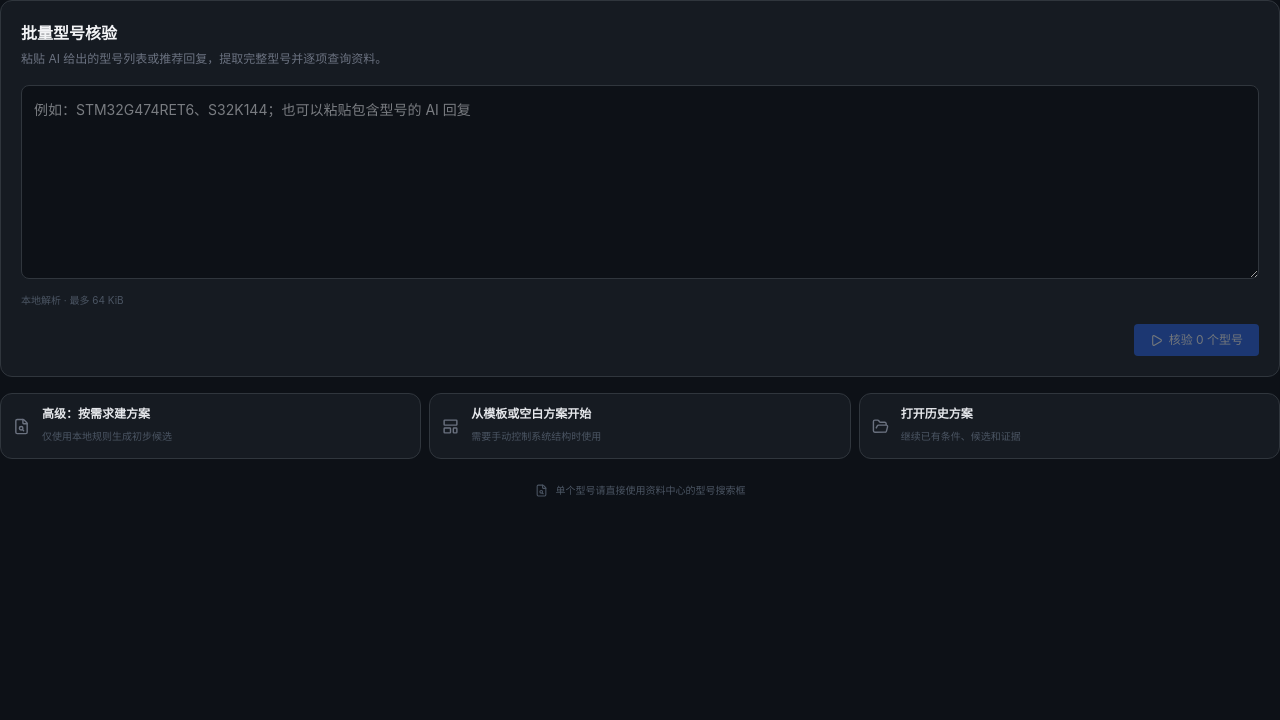
Test: FunctionalSelectionCenter › keeps requirement-based discovery behind an explicit advanced entry
Click the button "高级：按需求建方案 仅使用本地规则生成初步候选". click: click(96, 414)
box: [0,393,421,459]
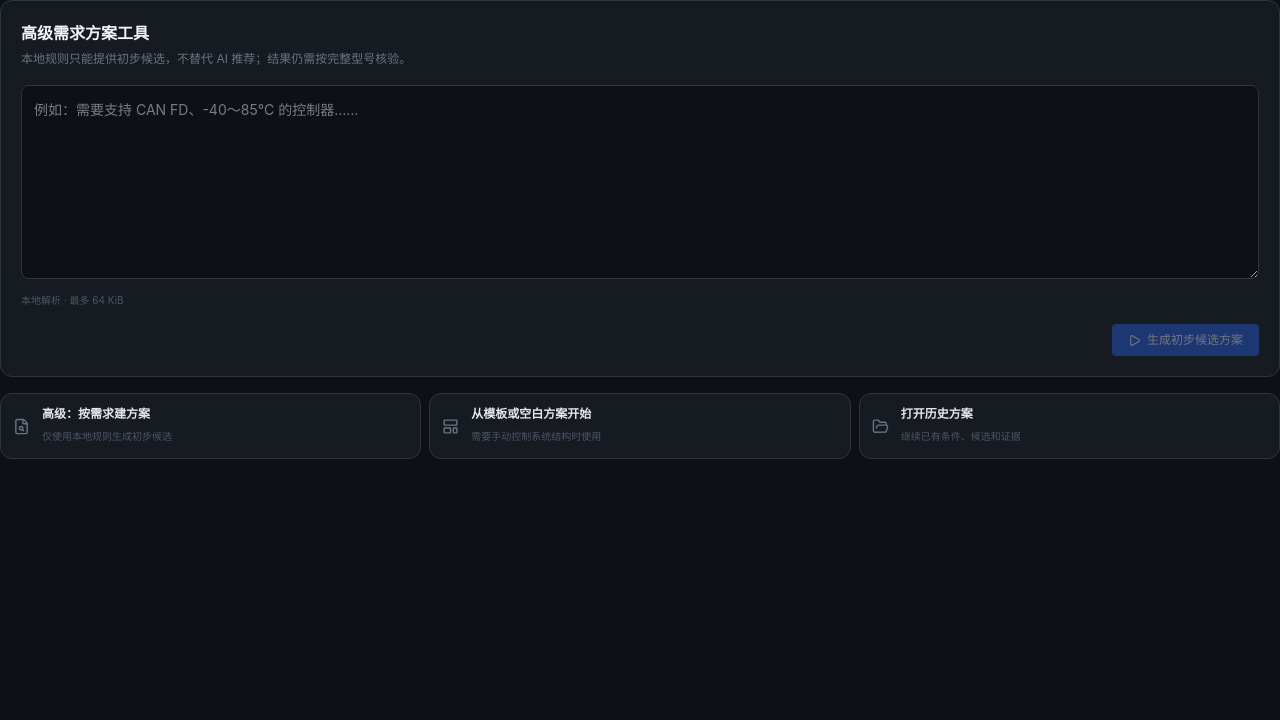
Type "温度和压力传感器采集，需要 ADC" into the text box named "产品需求内容". click: (640, 182)
box: [21,85,1259,279]
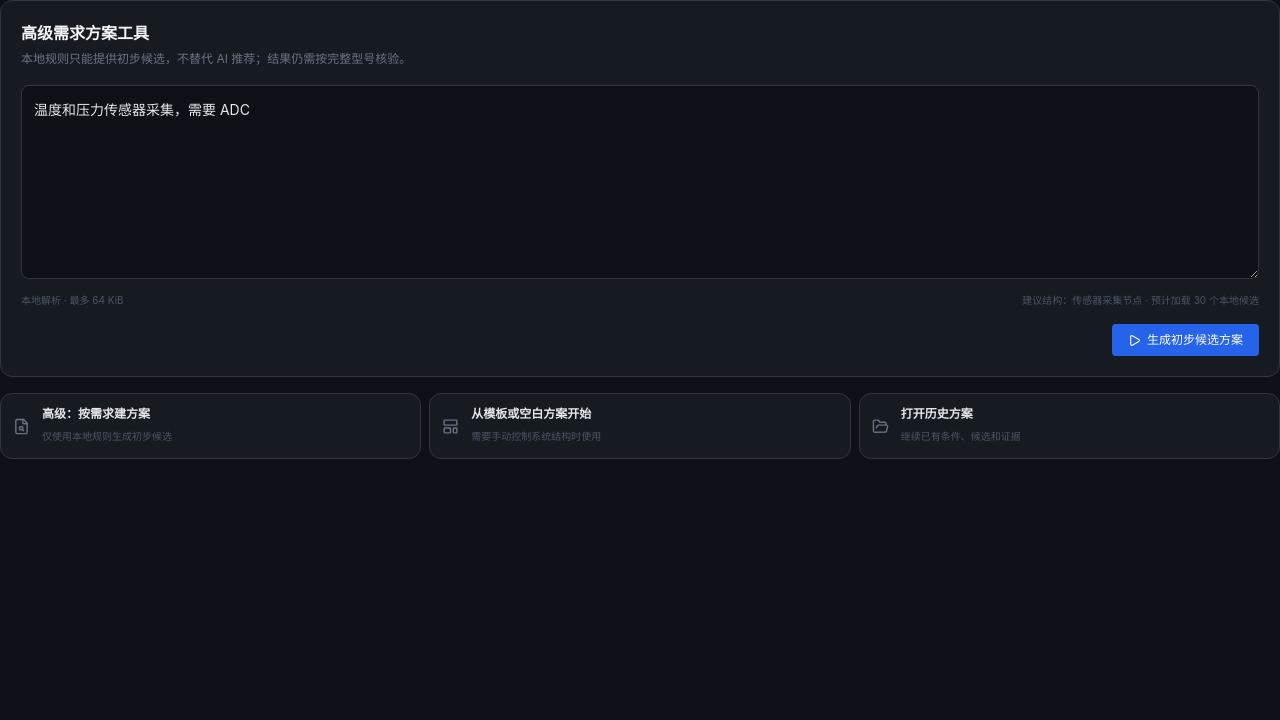
Check: the text "建议结构：传感器采集节点 · 预计加载 30 个本地候选" is shown, box [1022,293,1259,308]
Click the button "生成初步候选方案". click: click(1186, 340)
box: [1112,324,1259,356]
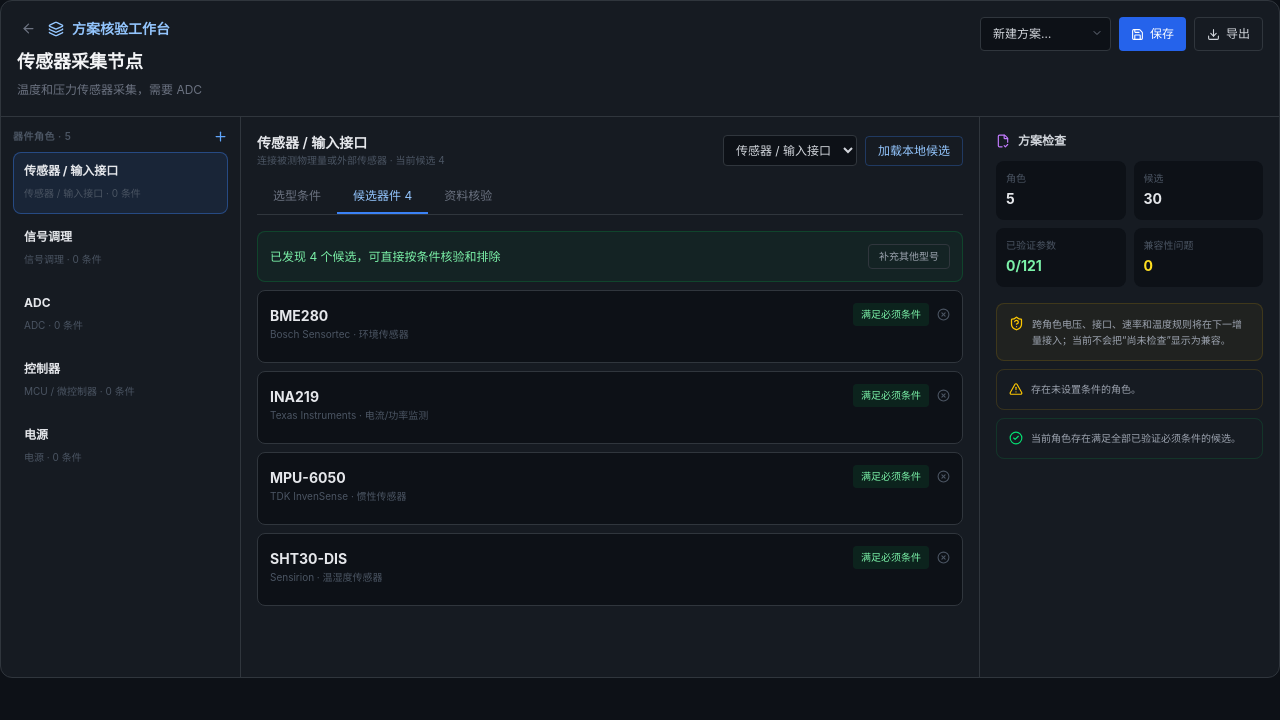
Check: the text "方案核验工作台" is shown, box [17,17,170,40]
Check: the field named "功能描述" holds "温度和压力传感器采集，需要 ADC", box [17,82,785,98]
Check: the text "BME280" is shown, box [270,307,328,324]
Click the button "补充其他型号". click: click(909, 256)
box: [868,244,950,269]
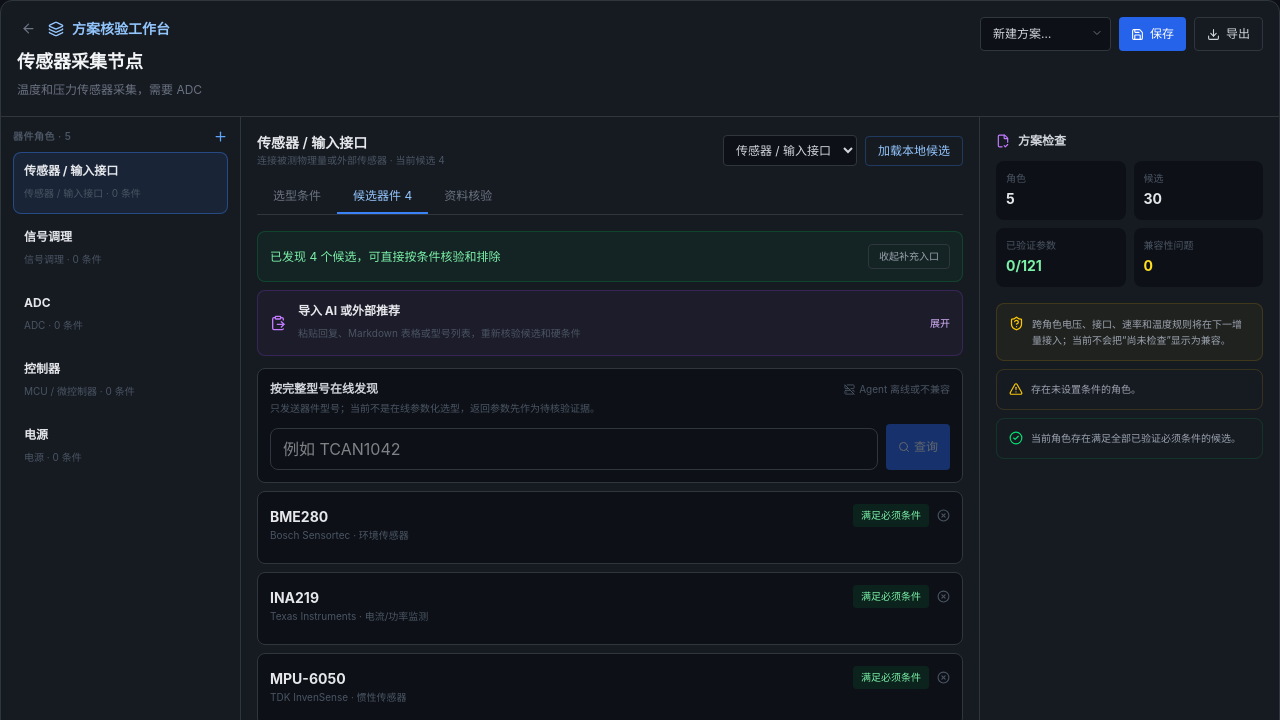
Check: the field named "在线查询器件型号" is shown, box [270,428,878,470]
